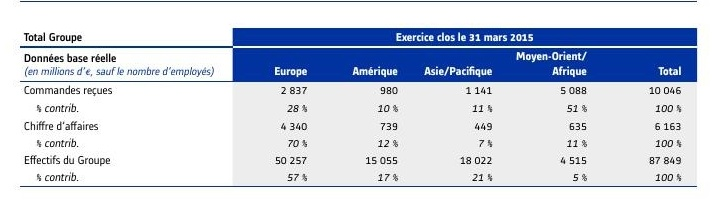table: (0, 0, 718, 203)
